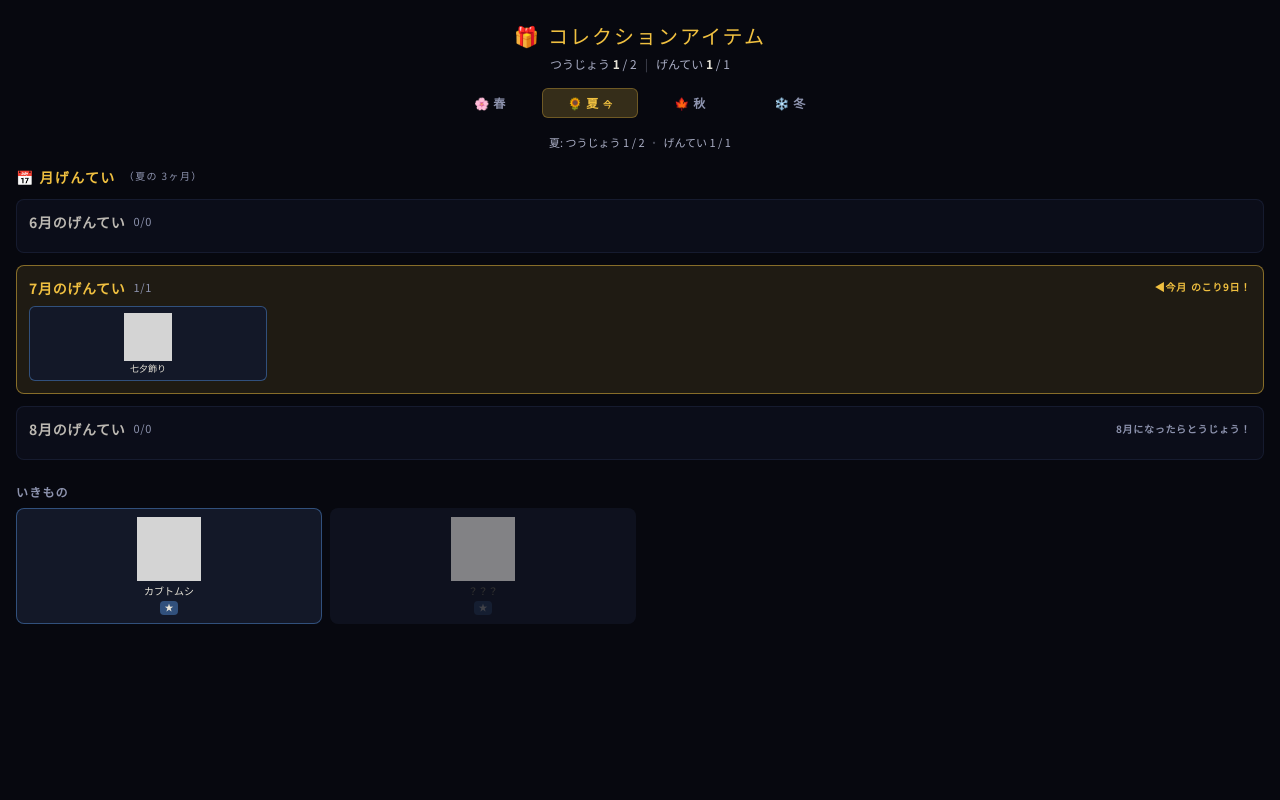
Scenario: ItemsContent: rubyEnabled配線（Issue #140） › 詳細モーダルの名前・説明もrubyEnabledに応じて切り替わること（false）
Click the button with alt text "カブトムシ".
click(169, 566)  # box [16,508,322,624]
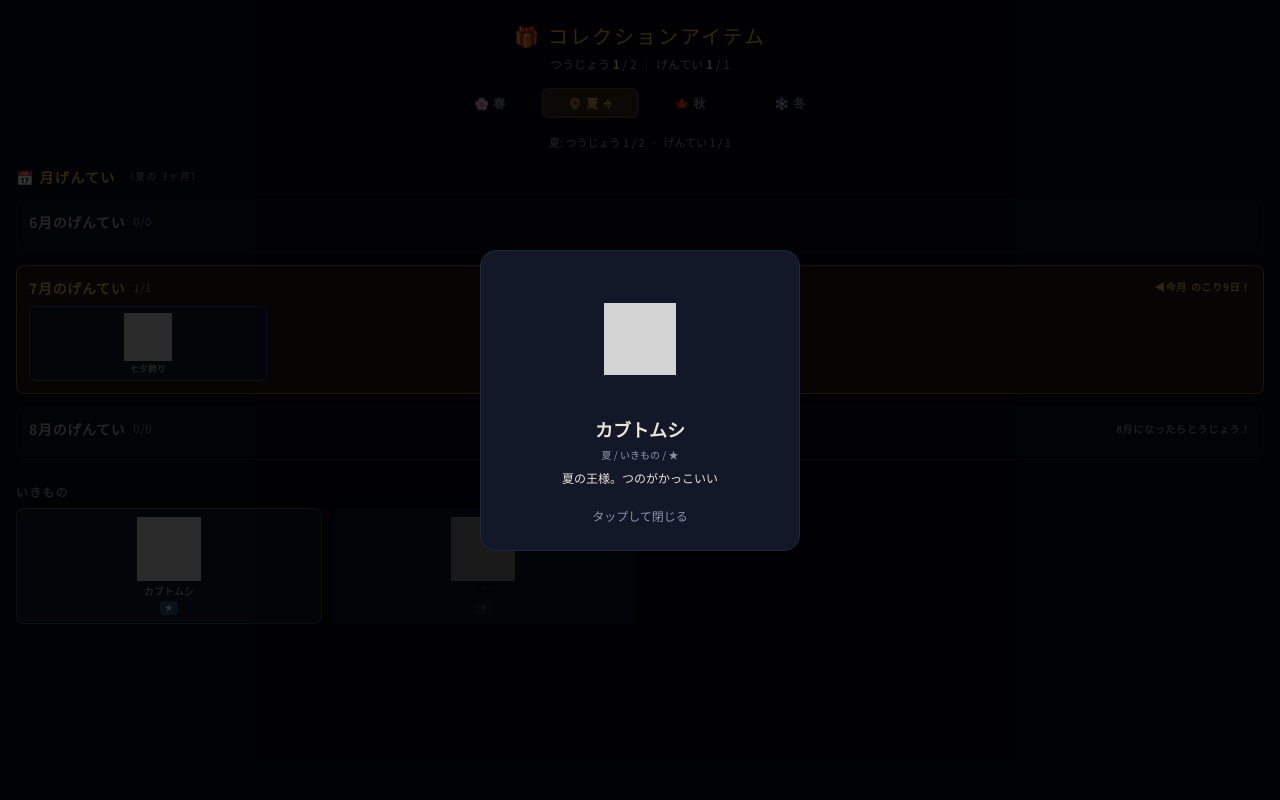
Now the text "夏の王様。つのがかっこいい" is shown, box [562,468,718,486]
